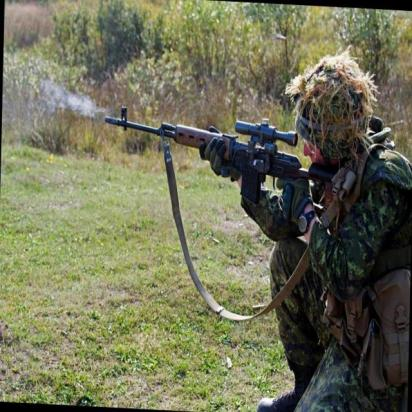Gun: (101, 107, 343, 218)
